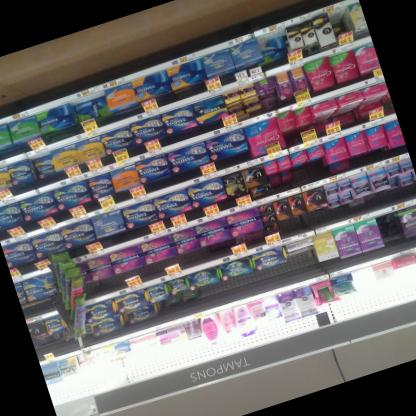empty_space: (327, 1, 352, 35)
